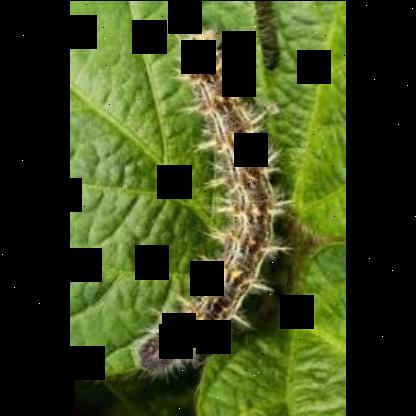oruga: (133, 21, 294, 374)
